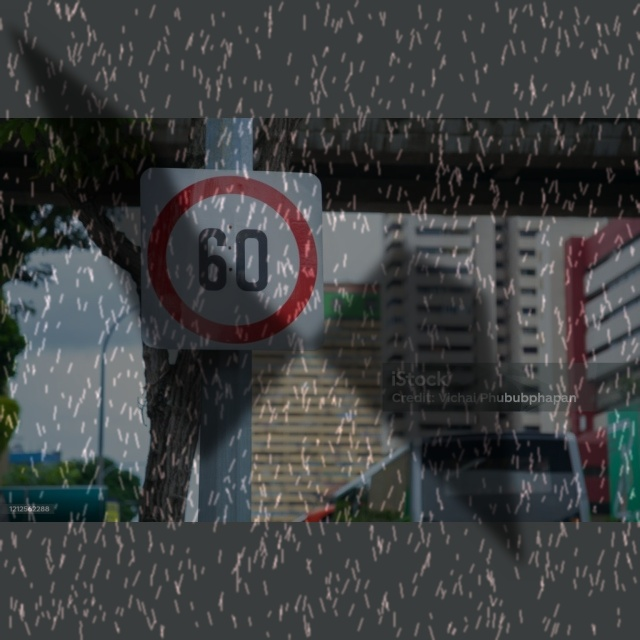Speed_Limit_60: (143, 172, 326, 353)
